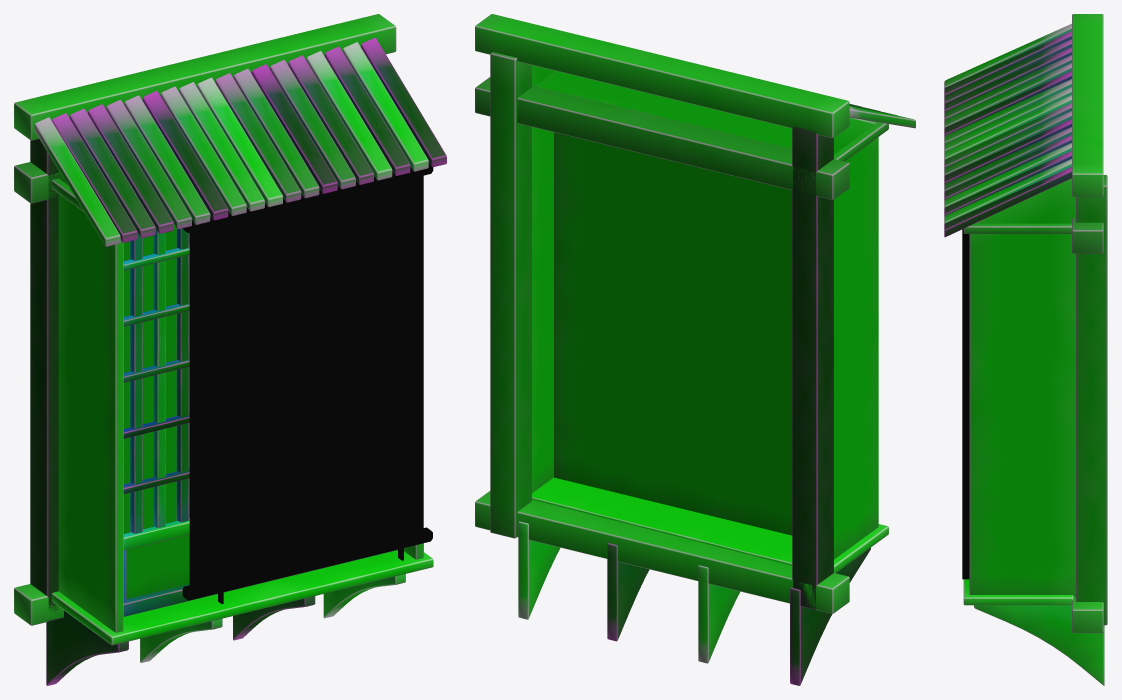
Rendered from window_slope_200_12_left.fbx.
3 renders of one model, left to right at view 1: azimuth 30°, elevation 25°; view 2: azimuth 150°, elevation 25°; view 3: azimuth 270°, elevation 25°, orthographic. The views are drawn at different scales.
Visible parts, largest first — view 1: window_slope_200_12_left; view 2: window_slope_200_12_left; view 3: window_slope_200_12_left.
Part boxes in pixels (x1,y1,x2,y2): window_slope_200_12_left: (14, 14, 446, 685); window_slope_200_12_left: (475, 14, 915, 685); window_slope_200_12_left: (944, 14, 1107, 685).
Size of the model in its own units: 1.32 by 2.05 by 0.5694.
